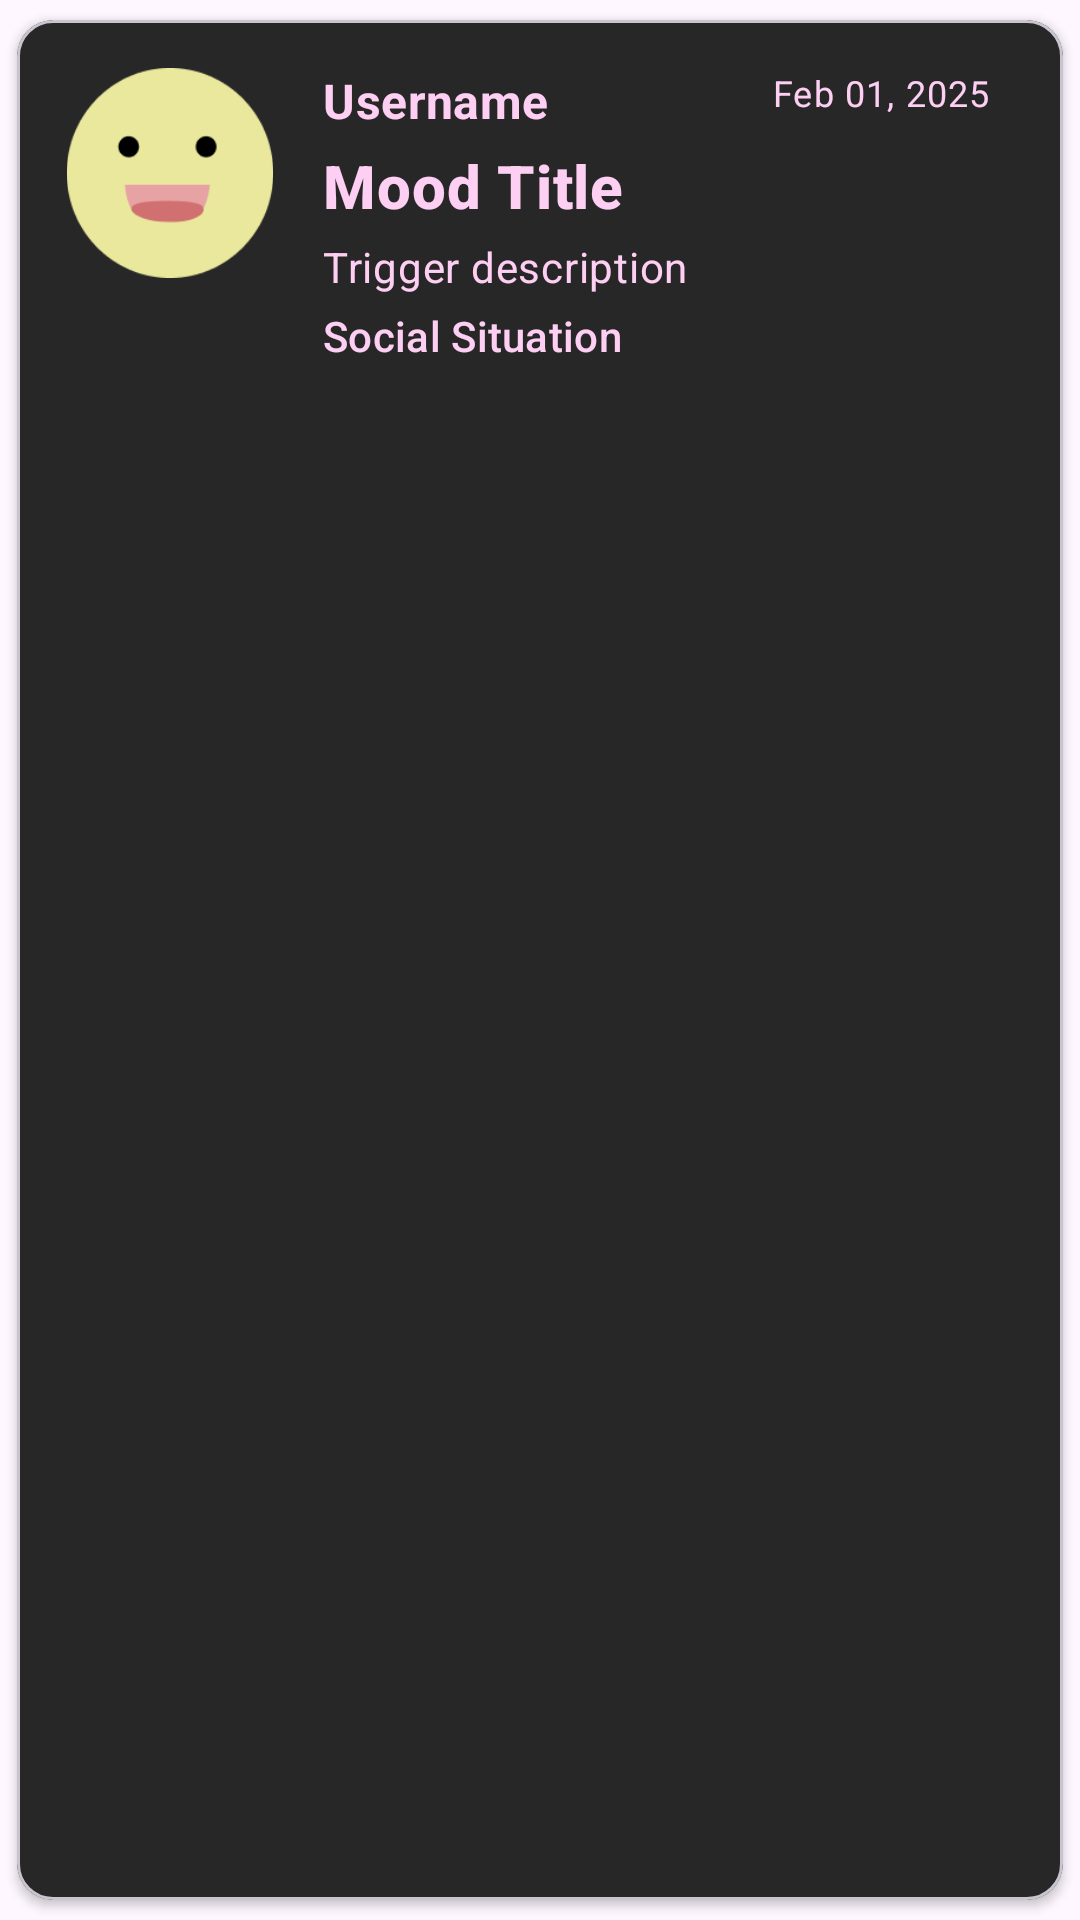

Icons on this 1080x1920 Android screen, each with its box as rect(x1, y1, x2, y2):
happy emoticon: rect(67, 68, 273, 278)
